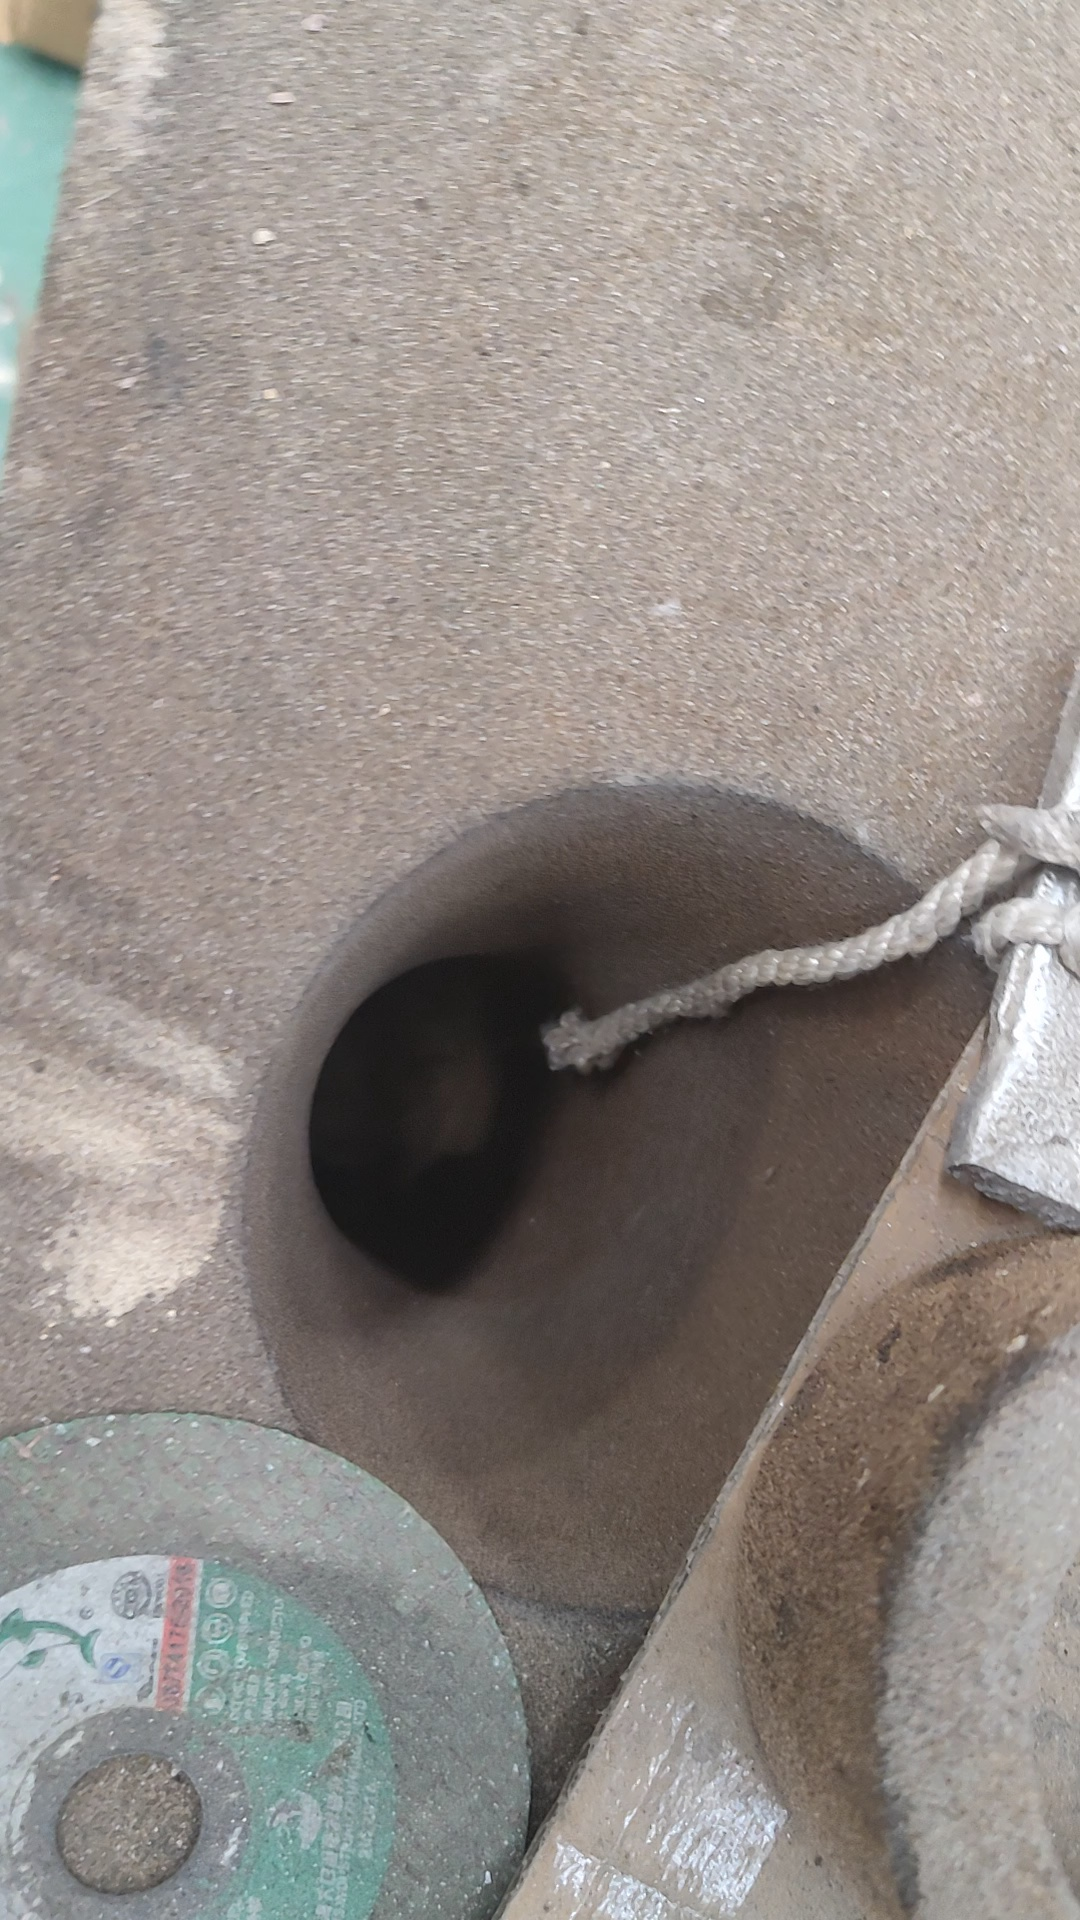pouring hole: (243, 781, 1062, 1618)
